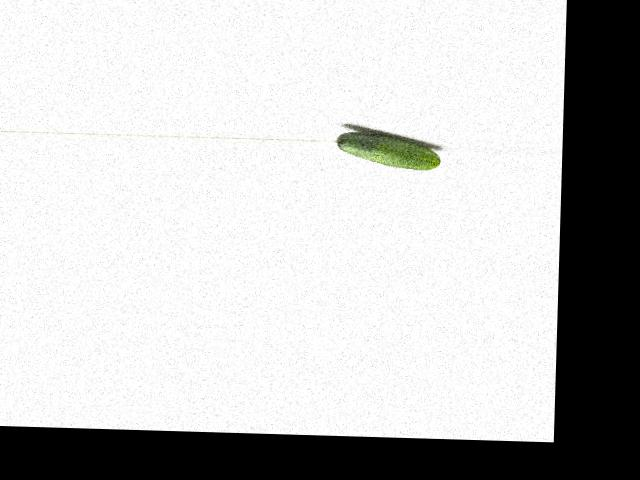cucumber: (334, 130, 440, 170)
